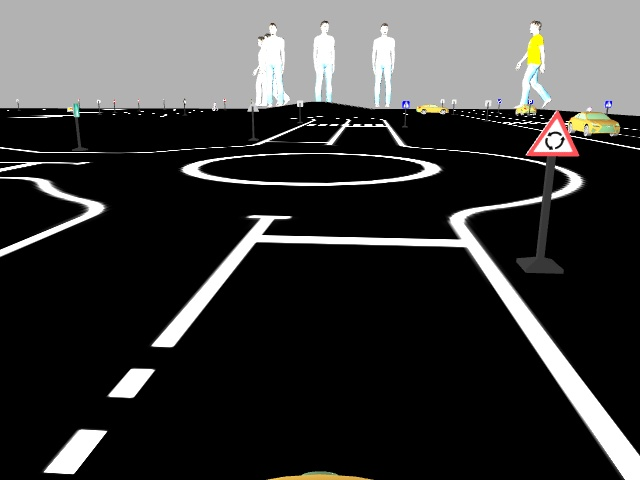Roundabout: (519, 108, 581, 158)
